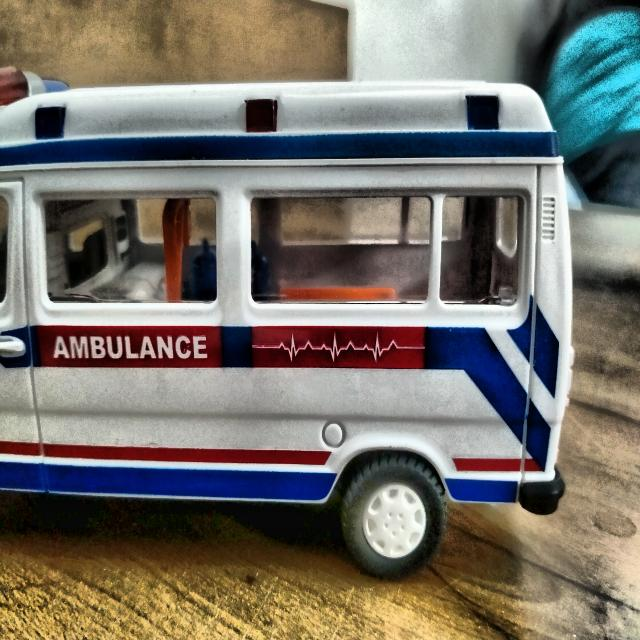Ambulance: (0, 51, 579, 586)
